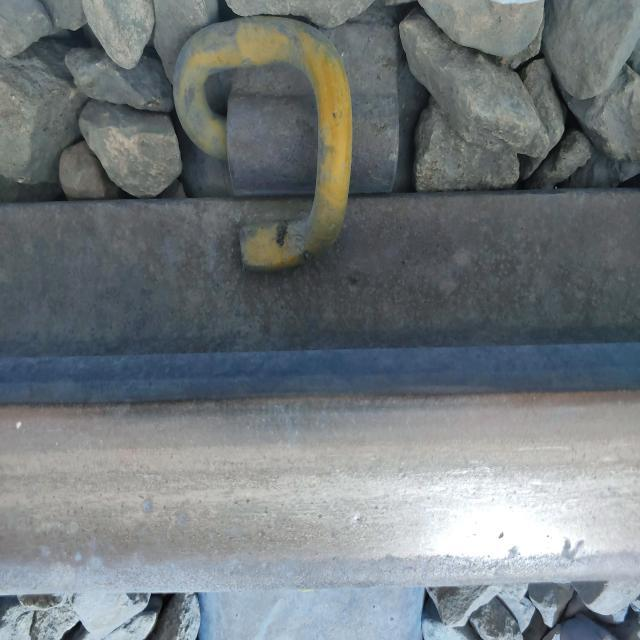Good Fasteners: (172, 15, 399, 270)
